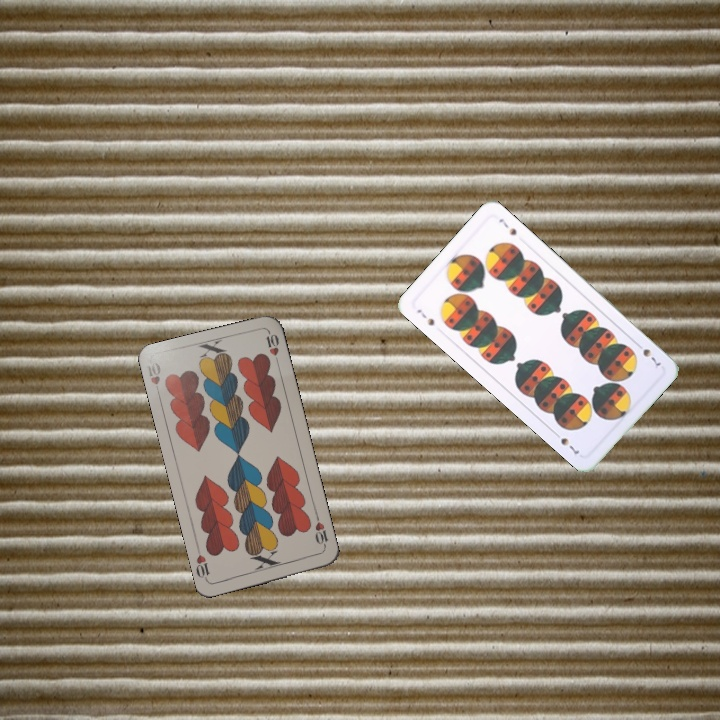H10: (311, 511, 331, 552), (143, 358, 163, 399)
S7: (632, 338, 664, 368), (412, 305, 437, 328)
